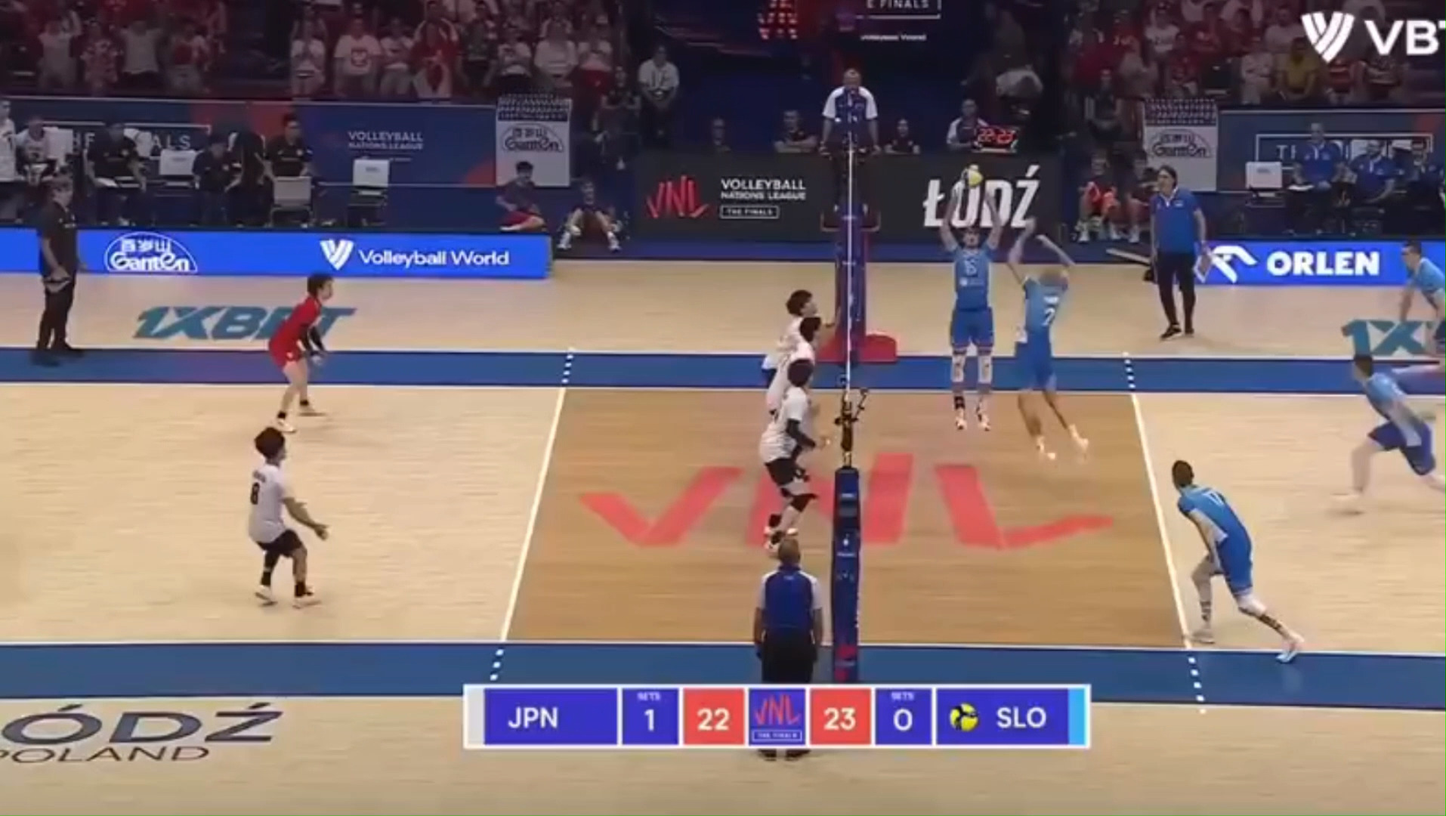ball: (961, 164, 984, 188)
player: (1171, 460, 1302, 663), (1009, 219, 1089, 459), (939, 199, 1003, 431), (1346, 354, 1445, 503), (1398, 242, 1445, 379)
player 1: (248, 427, 328, 607), (759, 358, 819, 552), (268, 273, 333, 433), (765, 315, 823, 415), (760, 289, 817, 387)
referee: (753, 530, 823, 683), (1151, 165, 1209, 338), (819, 68, 878, 228), (32, 176, 81, 364)
